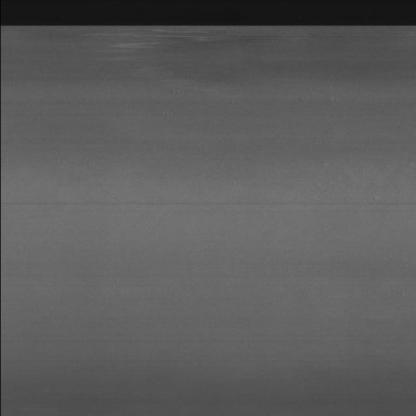silk_spot: (76, 27, 256, 63)
